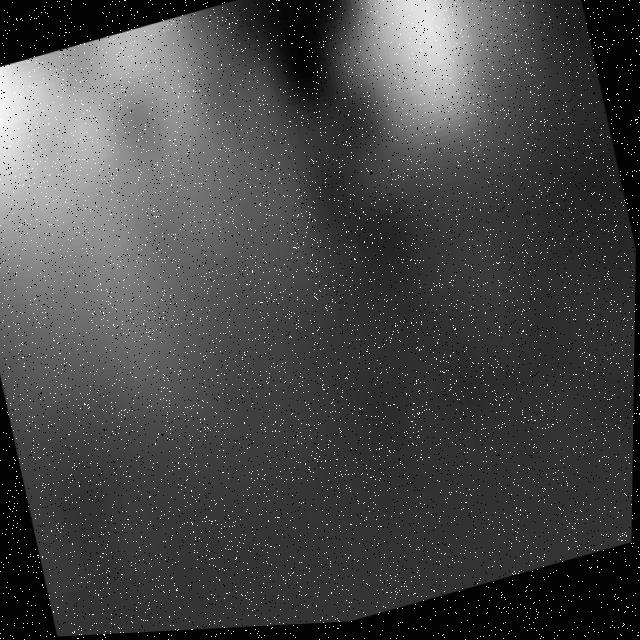person: (40, 1, 401, 602), (1, 32, 220, 549), (284, 1, 593, 346)
